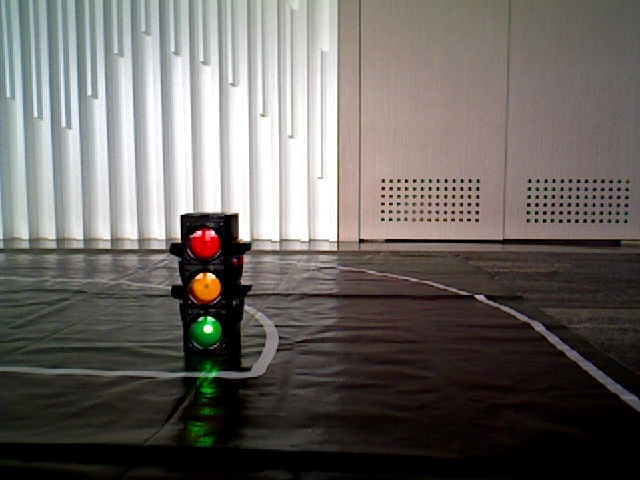green: (181, 218, 236, 355)
